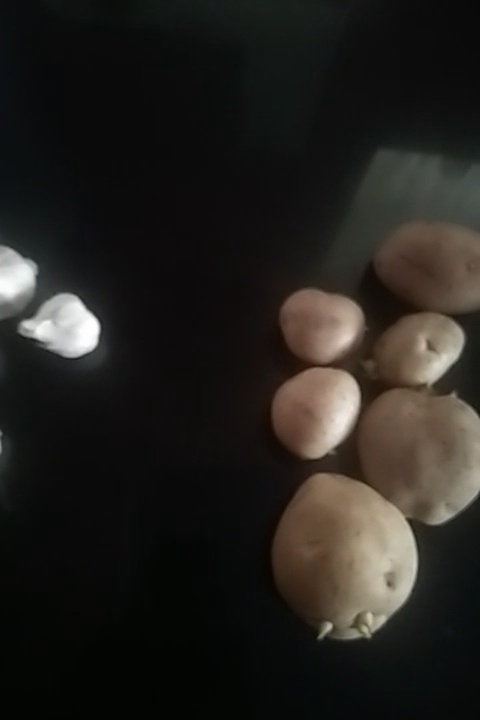garlic: (14, 283, 108, 367), (1, 251, 43, 322)
potato: (272, 464, 421, 641), (356, 390, 480, 525), (391, 211, 475, 313), (274, 368, 361, 463), (369, 314, 472, 390), (273, 286, 364, 361)
